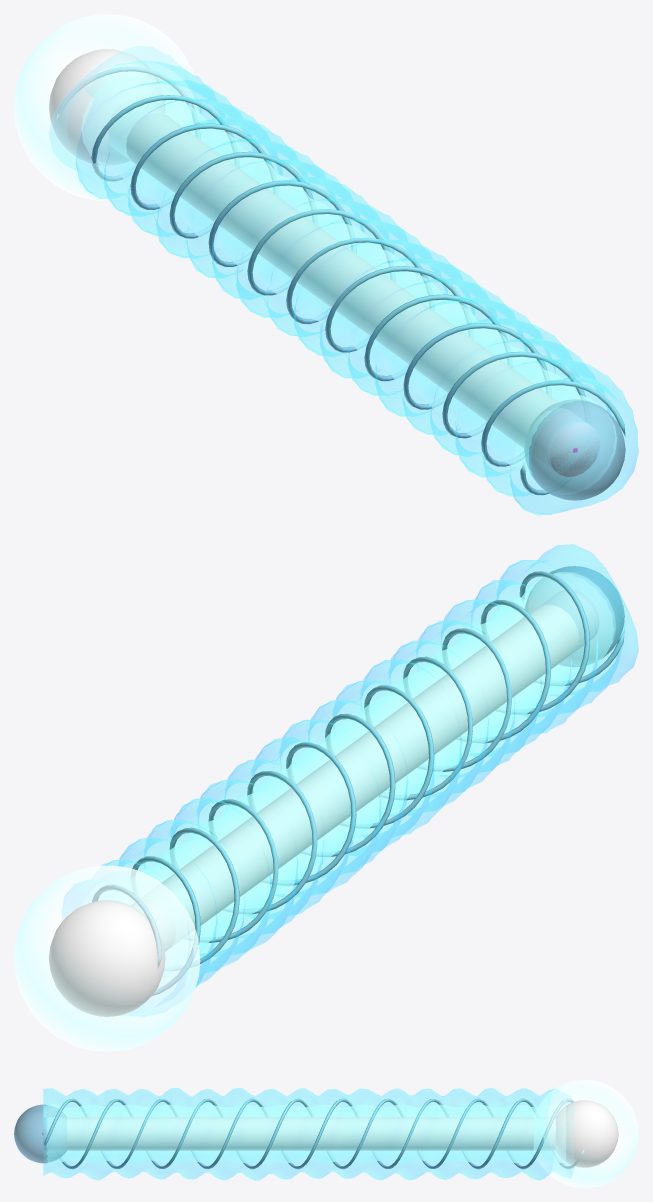
File: EnergyBeam.fbx
3 renders of one model, top to bottom at view 1: azimuth 30°, elevation 25°; view 2: azimuth 150°, elevation 25°; view 3: azimuth 270°, elevation 25°, orthographic. The views are drawn at different scales.
Visible parts, largest first — view 1: Aura, Glow, Core.008, Head, Coils, Muzzle, HeadCore; view 2: Aura, Glow, Head, Core.008, Coils, HeadCore, Muzzle; view 3: Aura, Glow, Core.008, Head, Coils, HeadCore, Muzzle.
Boxes of the visible parts, left/top/right/bottom form: Aura: left=49, top=46, right=638, bottom=515; Glow: left=82, top=75, right=616, bottom=494; Core.008: left=108, top=99, right=599, bottom=476; Head: left=14, top=14, right=199, bottom=200; Coils: left=57, top=66, right=625, bottom=495; Muzzle: left=524, top=399, right=625, bottom=500; HeadCore: left=49, top=49, right=164, bottom=165; Aura: left=62, top=544, right=638, bottom=1016; Glow: left=103, top=572, right=615, bottom=981; Head: left=14, top=865, right=200, bottom=1051; Core.008: left=132, top=591, right=598, bottom=951; Coils: left=92, top=571, right=624, bottom=995; HeadCore: left=48, top=900, right=165, bottom=1016; Muzzle: left=525, top=566, right=624, bottom=666; Aura: left=43, top=1088, right=573, bottom=1180; Glow: left=43, top=1104, right=565, bottom=1163; Core.008: left=44, top=1117, right=555, bottom=1150; Head: left=534, top=1080, right=638, bottom=1187; Coils: left=43, top=1098, right=584, bottom=1169; HeadCore: left=556, top=1100, right=618, bottom=1167; Muzzle: left=14, top=1104, right=66, bottom=1163.
Size of the model in its own units: 4.8 by 4.8 by 27.7.
